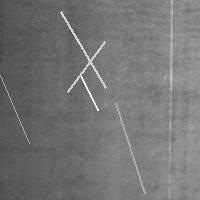scratches: (56, 7, 111, 93), (111, 98, 150, 198), (0, 54, 34, 148), (62, 37, 109, 97), (165, 1, 177, 185), (75, 70, 102, 115)
